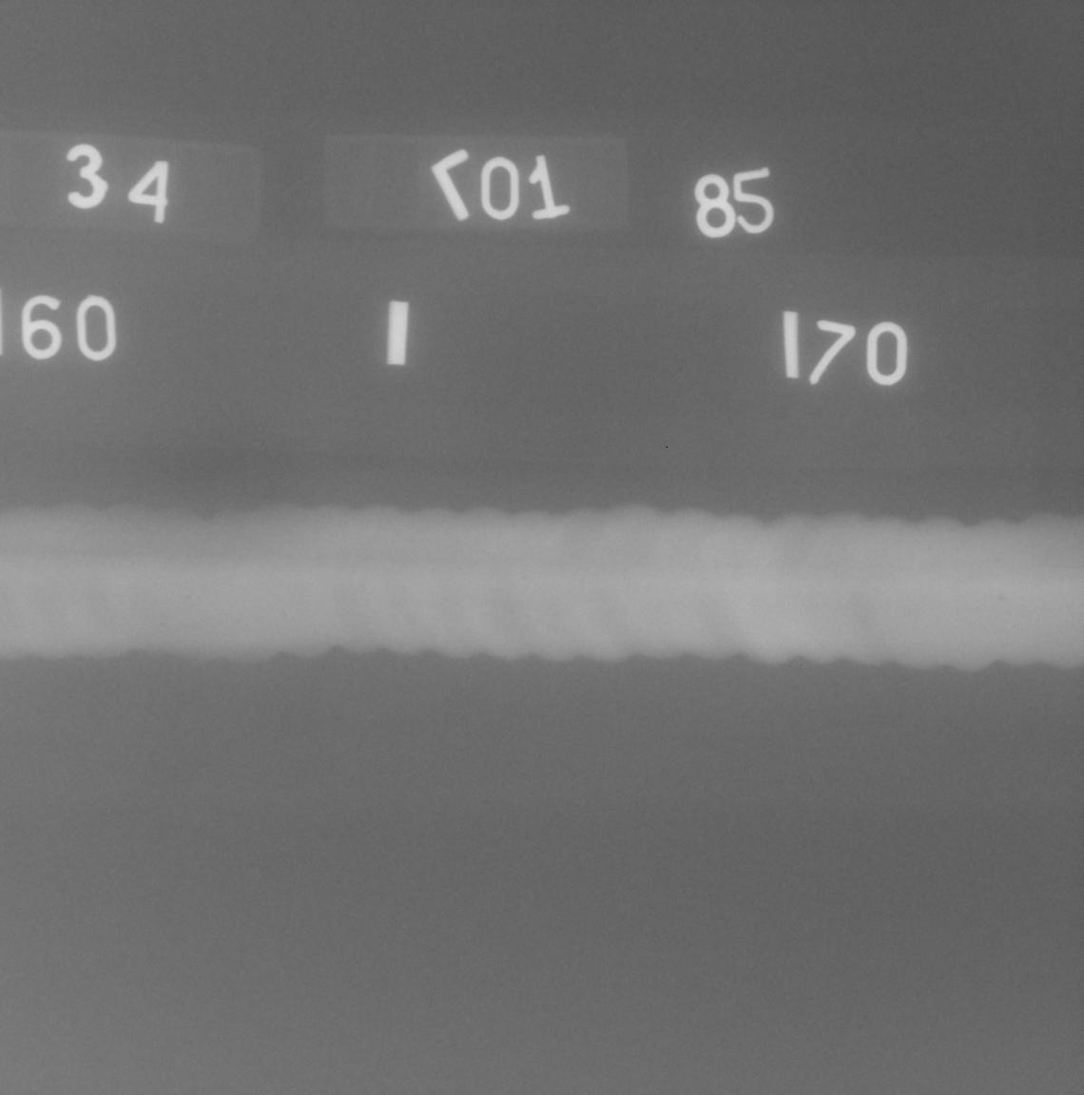Inclusion: (160, 614, 171, 621), (160, 622, 168, 629), (184, 595, 192, 601)
Pore/Porosity: (999, 592, 1007, 601), (996, 558, 1001, 564), (734, 564, 741, 568)
